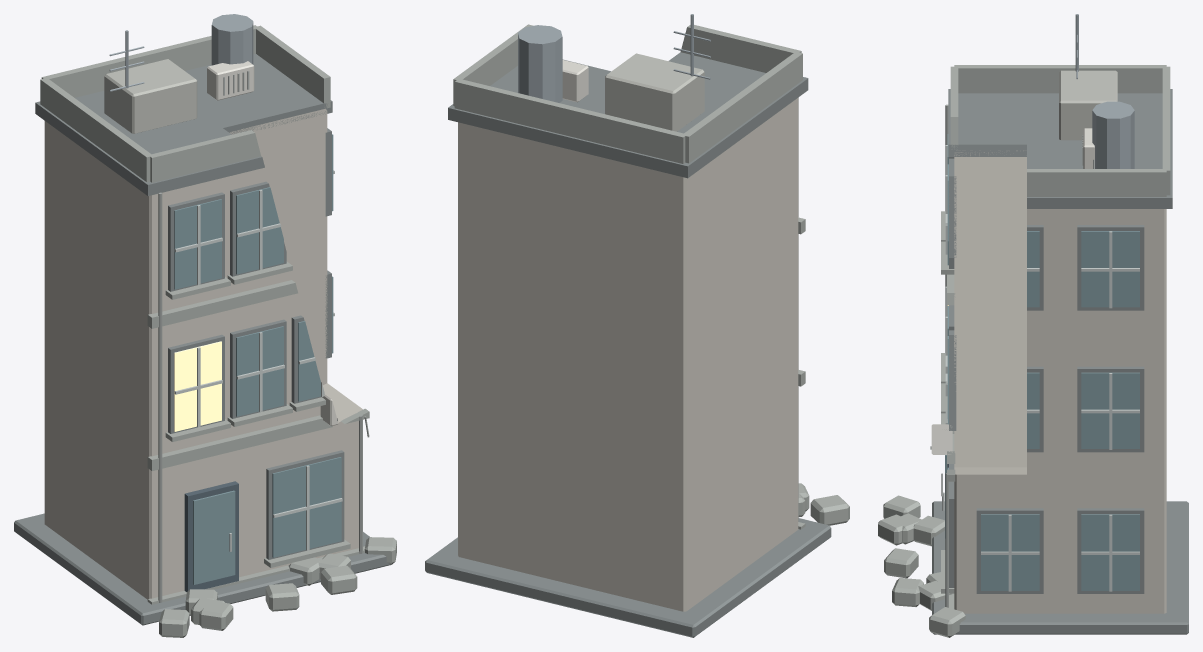
File: SM_ENV_Building_15_BrokenBuilding.glb
3 views of the same model, side by side, from view 1: azimuth 30°, elevation 25°; view 2: azimuth 150°, elevation 25°; view 3: azimuth 270°, elevation 25° (orthographic). The views are drawn at different scales.
Visible parts, largest first — view 1: SM_ENV_Building_15_BrokenBuilding; view 2: SM_ENV_Building_15_BrokenBuilding; view 3: SM_ENV_Building_15_BrokenBuilding.
Boxes of the visible parts, <box> form: SM_ENV_Building_15_BrokenBuilding: <box>14,14,396,637</box>; SM_ENV_Building_15_BrokenBuilding: <box>425,14,849,637</box>; SM_ENV_Building_15_BrokenBuilding: <box>878,14,1188,637</box>.
Bounding box in the file's own units: 5.41 × 10.4 × 5.57.
